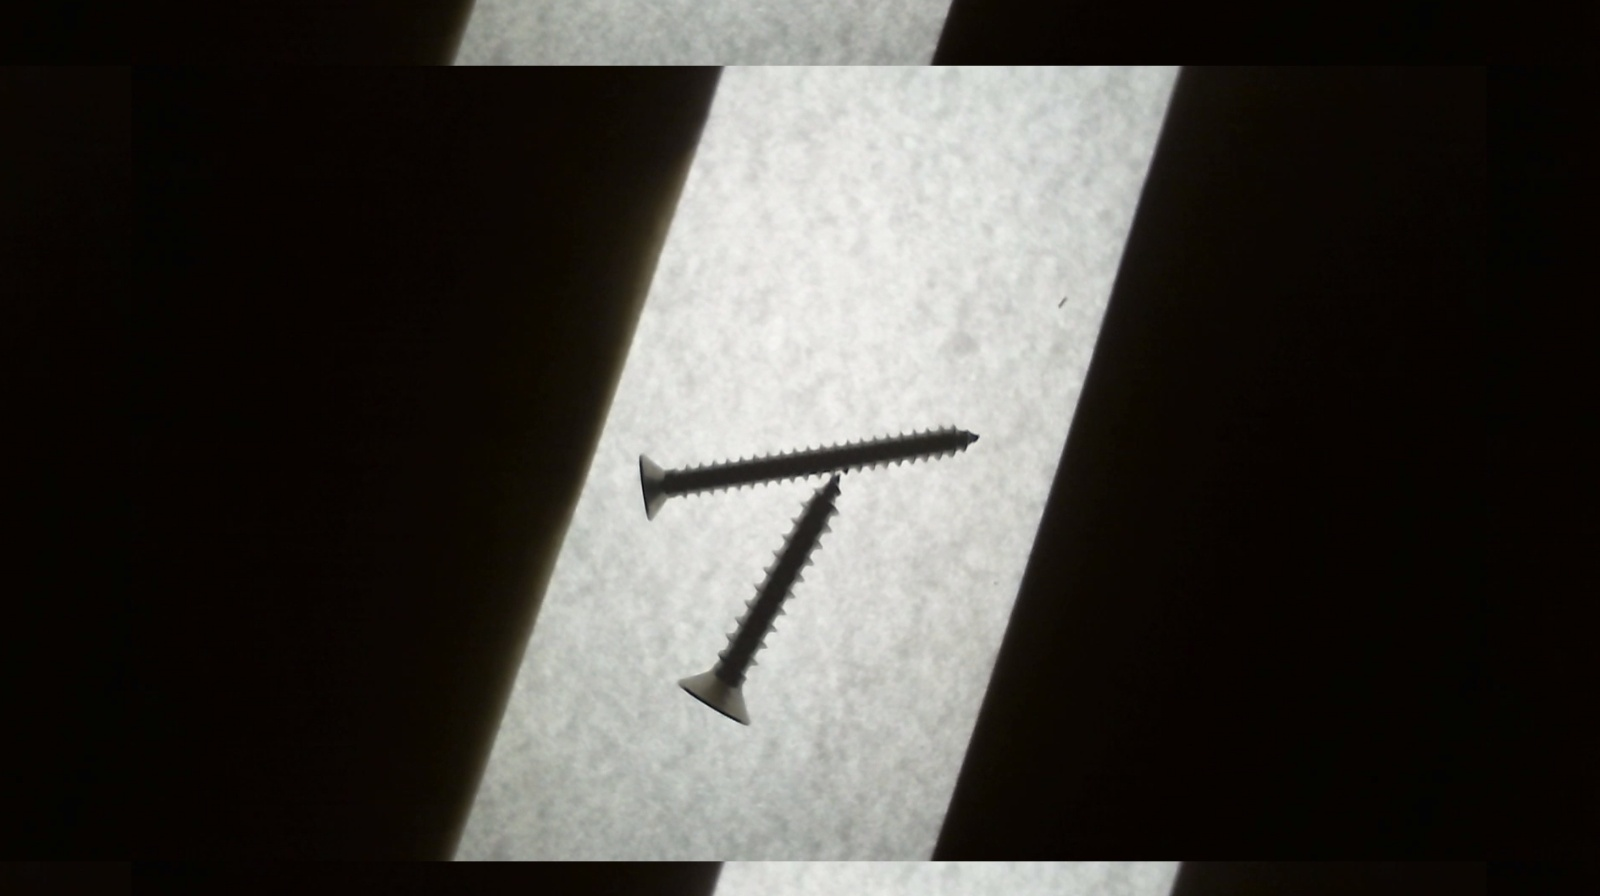S001: (671, 473, 844, 728)
S002: (636, 421, 978, 524)
